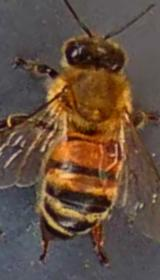varroa_mite: (98, 130, 125, 161)
